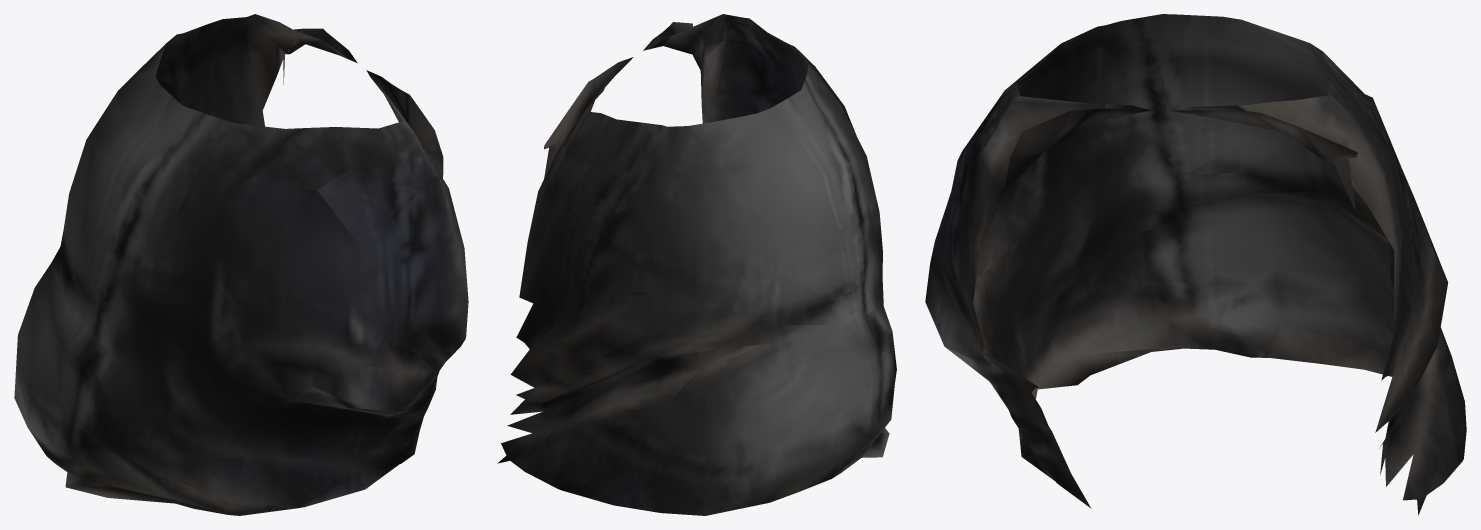
Rendered from RightUpperArm.glb.
The picture shows the model from 3 angles, left to right: view 1: azimuth 30°, elevation 25°; view 2: azimuth 150°, elevation 25°; view 3: azimuth 270°, elevation 25°; orthographic projection. The views are drawn at different scales.
Visible parts, largest first — view 1: RightUpperArm; view 2: RightUpperArm; view 3: RightUpperArm.
Part boxes in pixels (bbox=[...]): RightUpperArm: bbox=[14, 14, 468, 515]; RightUpperArm: bbox=[497, 14, 896, 515]; RightUpperArm: bbox=[925, 14, 1466, 515].
Bounding box in the file's own units: 1.09 × 1.2 × 1.5.
1 material, 1 textured.
